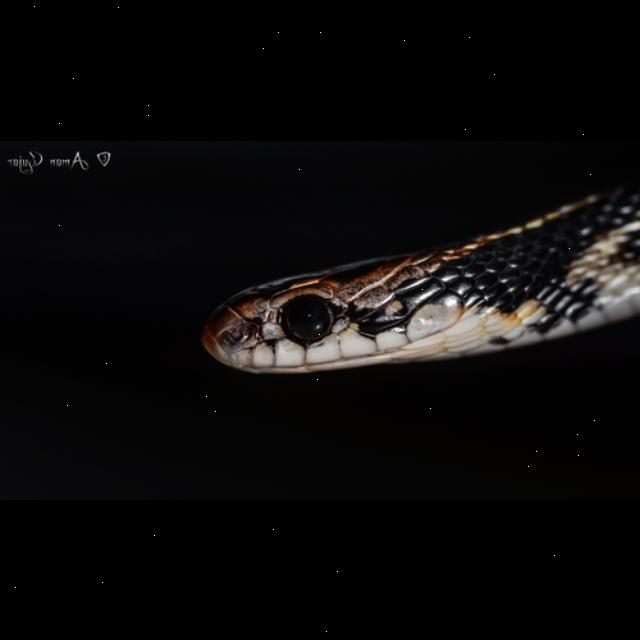snake: (198, 180, 640, 381)
